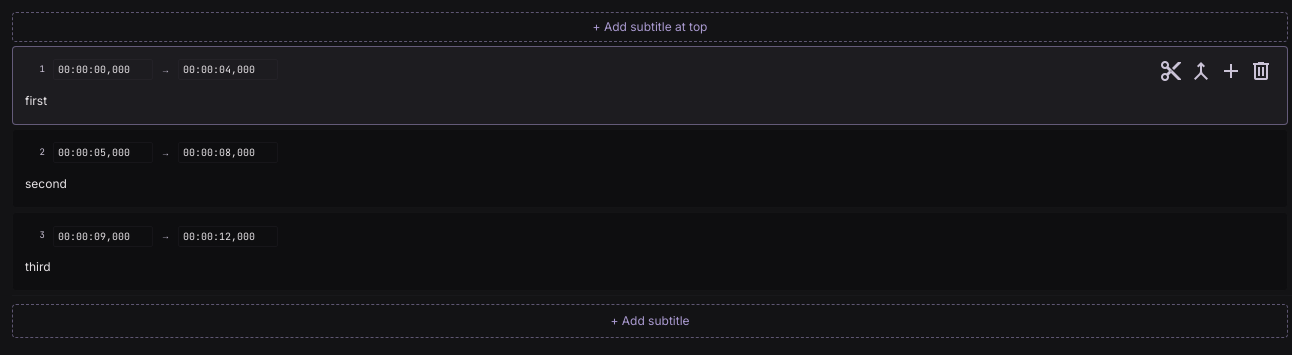
Test: SegmentList — time inputs are controlled with validation feedback › blur with start >= end is rejected and reverts the value
Replace the text in the 1st field showing "00:00:00,000" with "00:00:05,000" at (103, 70), box [53,59,153,80]
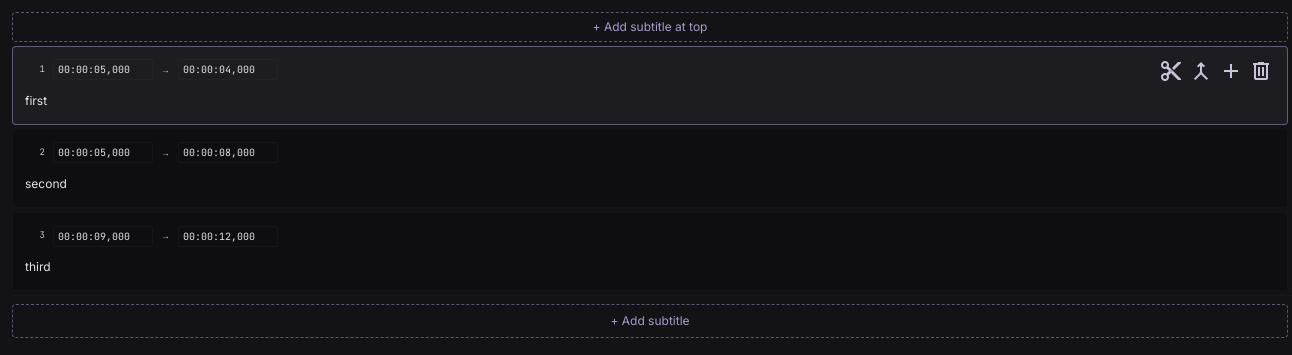
Leave the 1st field showing "00:00:00,000", box [53,59,153,80]
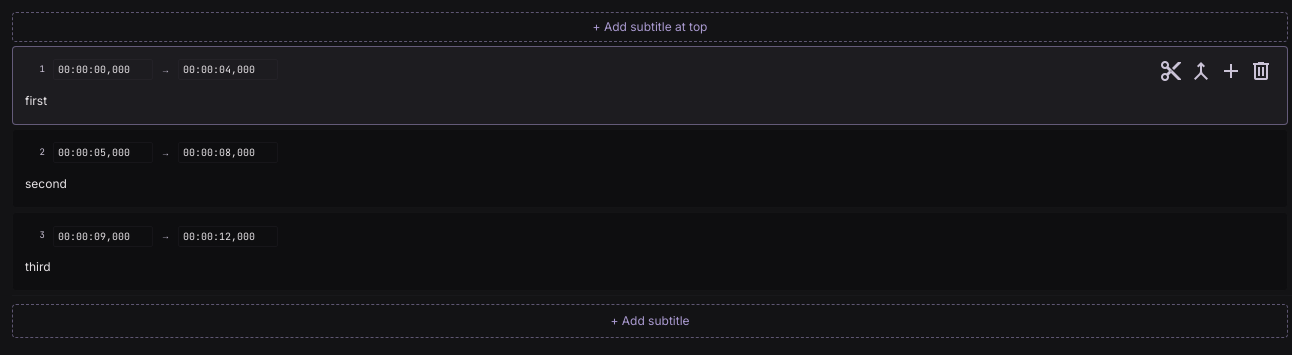
expect the 1st field showing "00:00:00,000" holds "00:00:00,000": met, box [53,59,153,80]
